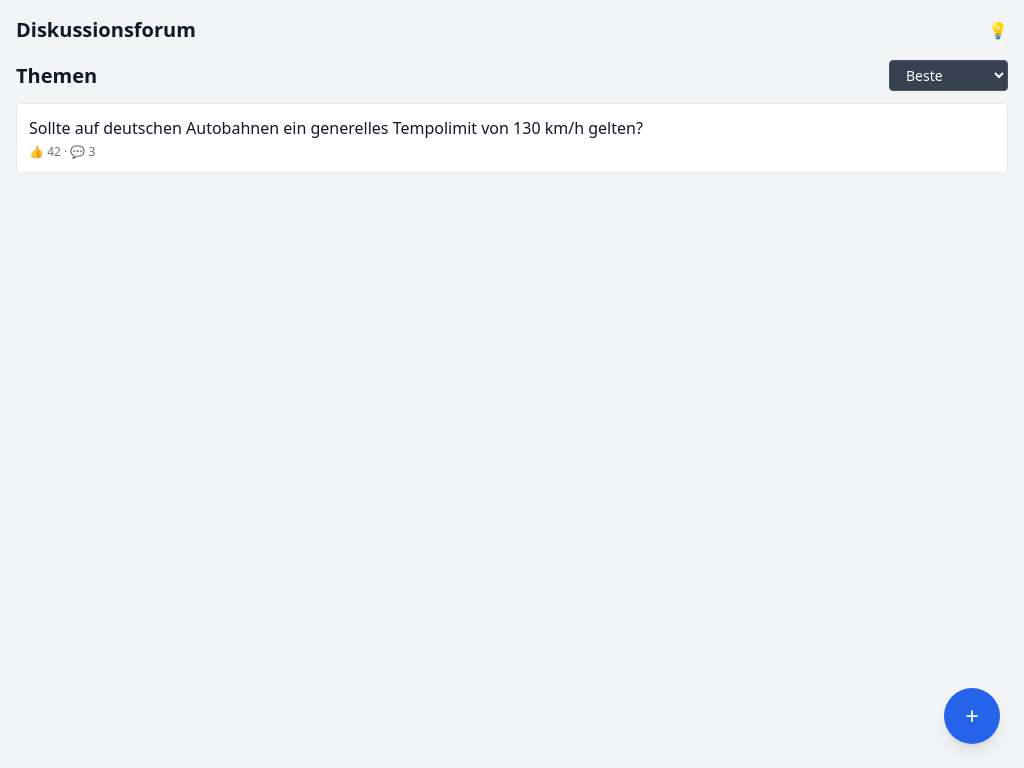
Test case: ForumThread › embedded without a nodeId › selecting a thema from the list switches to the thread view with a clickable home heading
Click the text "Sollte auf deutschen Autobahnen ein generelles Tempolimit von 130 km/h gelten?": (336, 128) [29, 117, 643, 139]
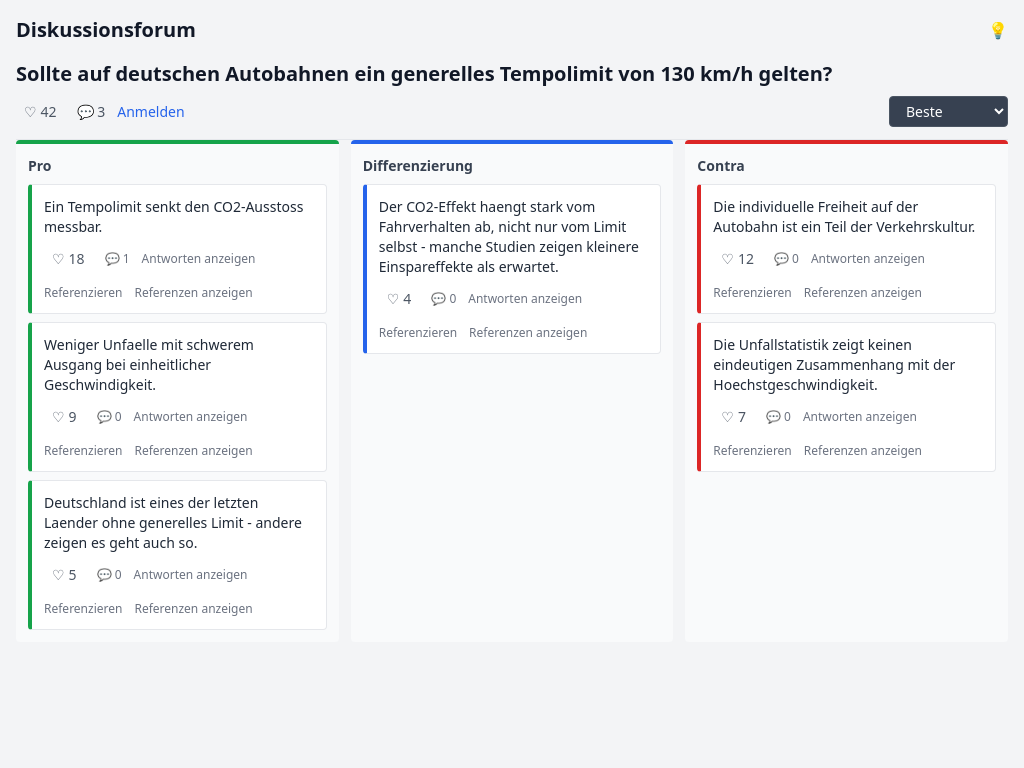
Check: the heading "Pro" is shown, box [28, 156, 52, 176]
Click the button "Diskussionsforum": (106, 30) [16, 16, 196, 44]
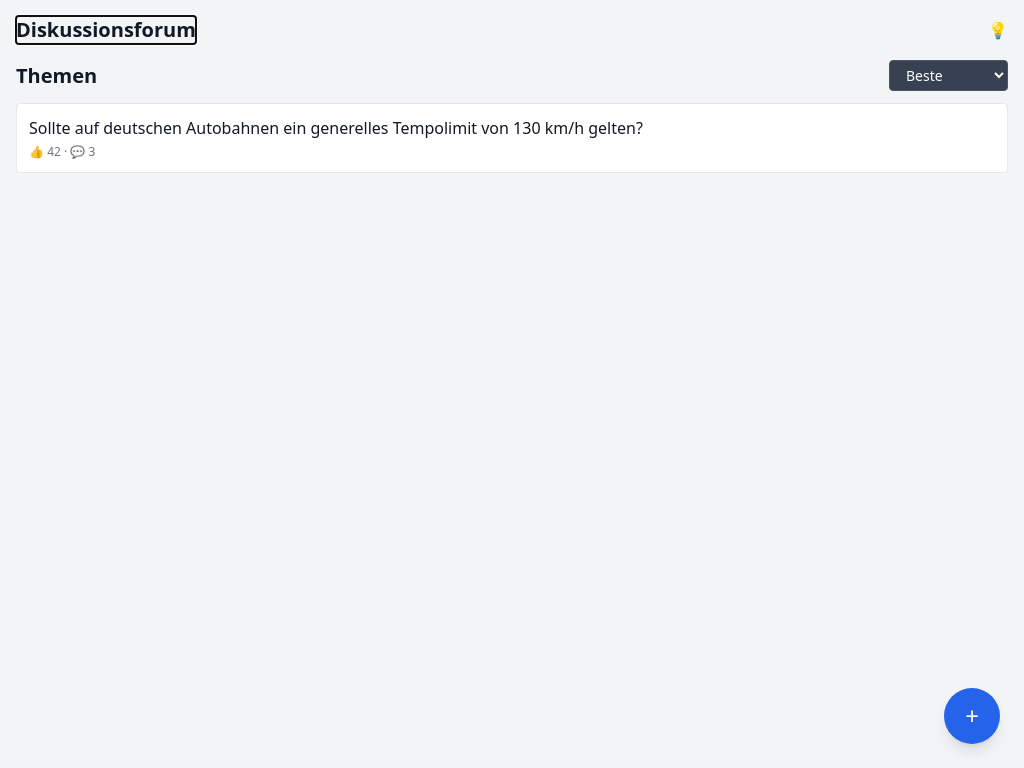
Check: the heading "Themen" is shown, box [16, 62, 97, 90]
